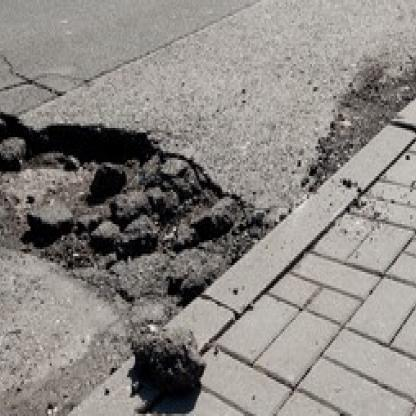pothole: (0, 112, 250, 311)
